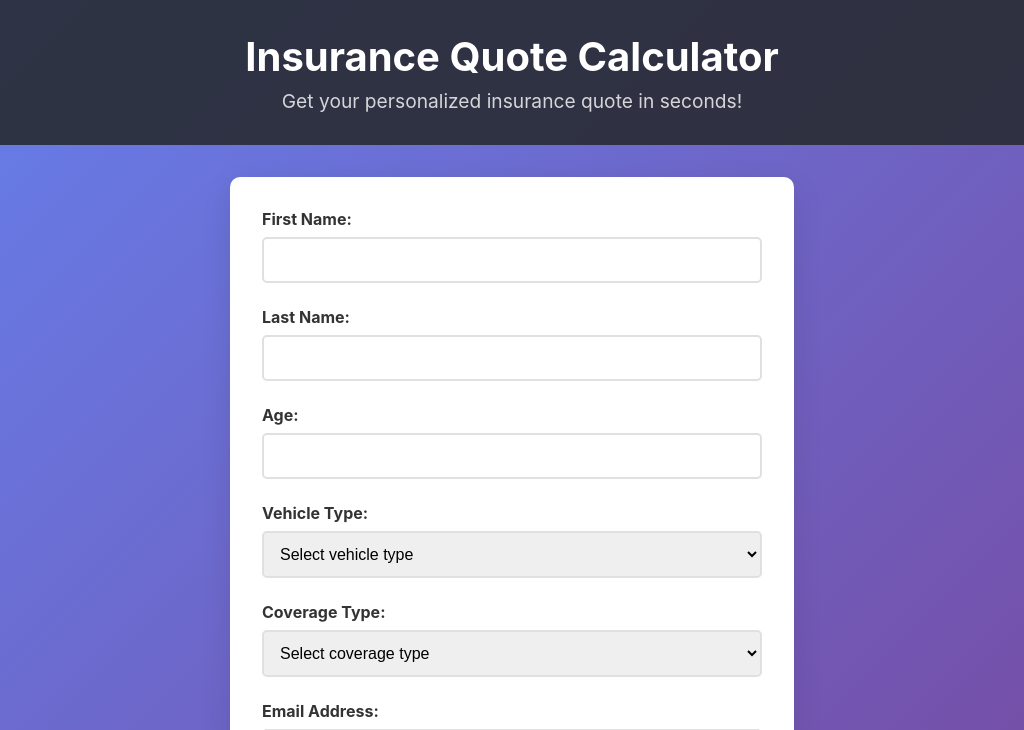
generates quote when form is submitted
Note: Fill out the form
Type "John" into the field labelled "First Name:" at (512, 260), box [262, 237, 762, 283]
Type "Doe" into the field labelled "Last Name:" at (512, 358), box [262, 335, 762, 381]
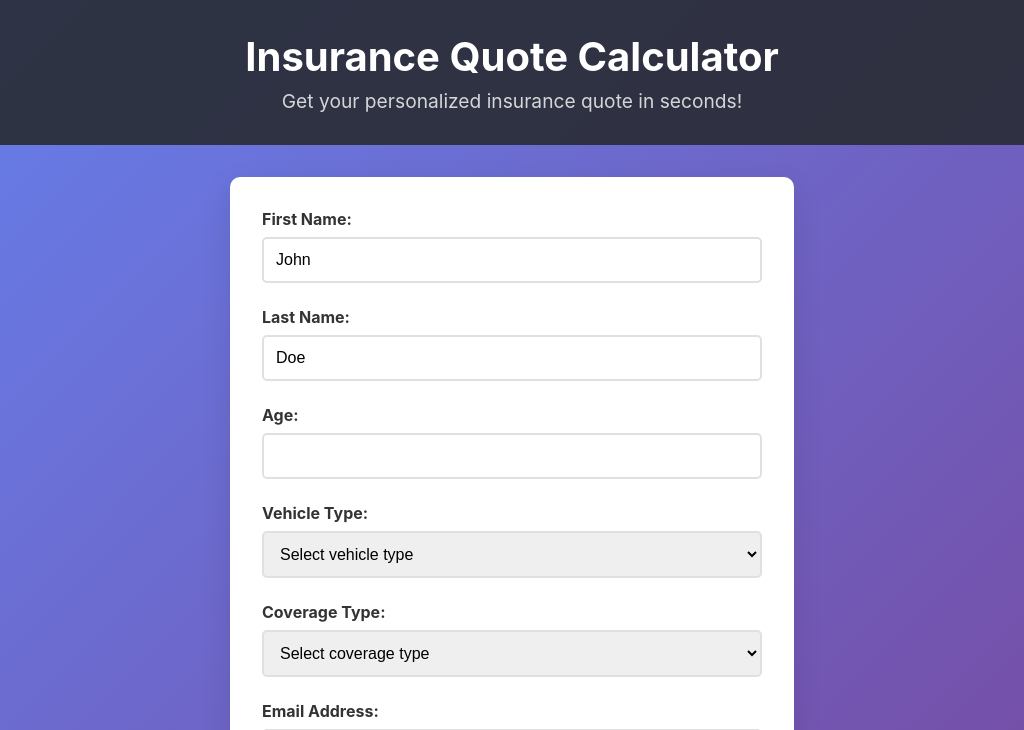
Type "30" into the number field labelled "Age:" at (512, 456), box [262, 433, 762, 479]
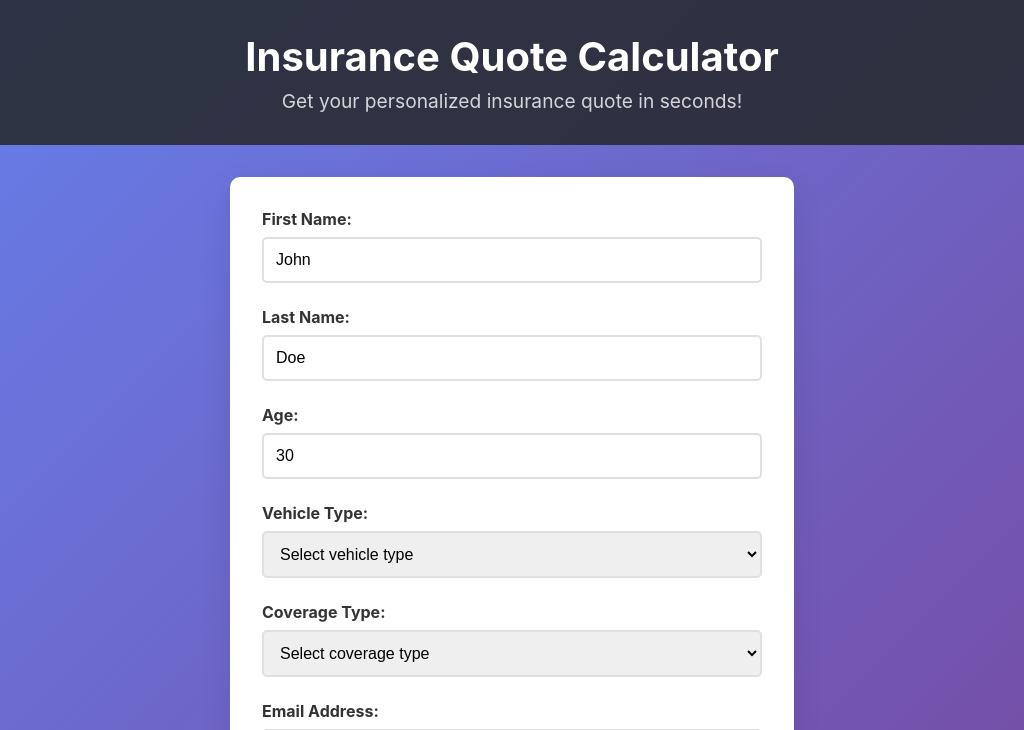
Select "Sedan" in the dropdown labelled "Vehicle Type:" at (512, 554), box [262, 531, 762, 578]
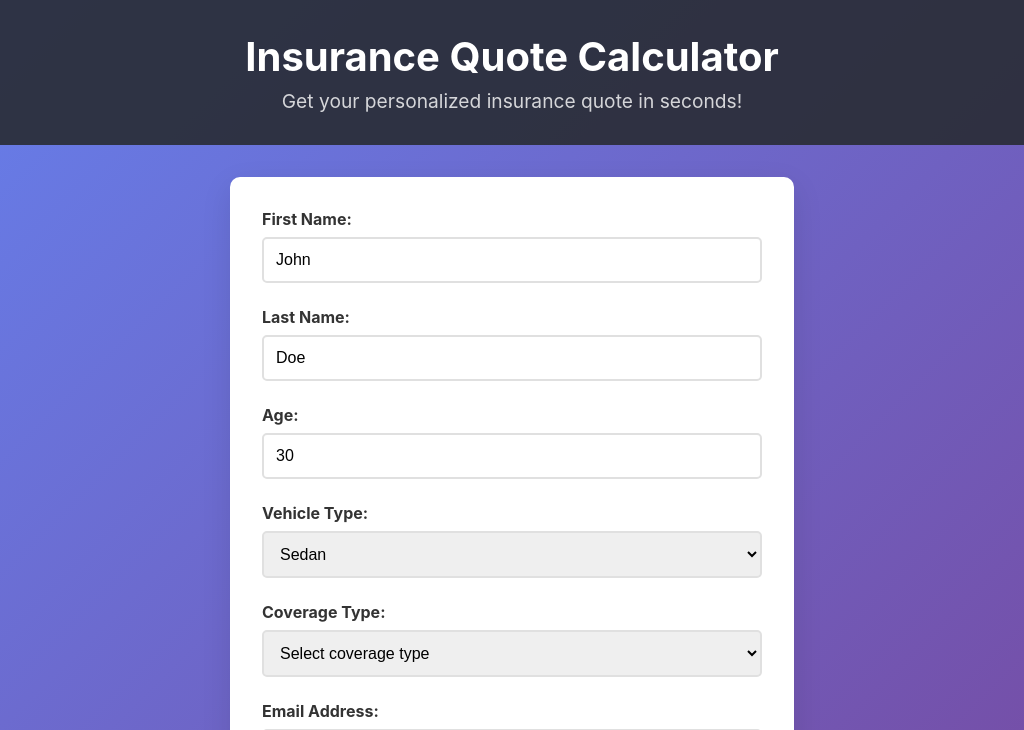
Select "Liability Only" in the dropdown labelled "Coverage Type:" at (512, 654), box [262, 630, 762, 677]
(page scrolled)
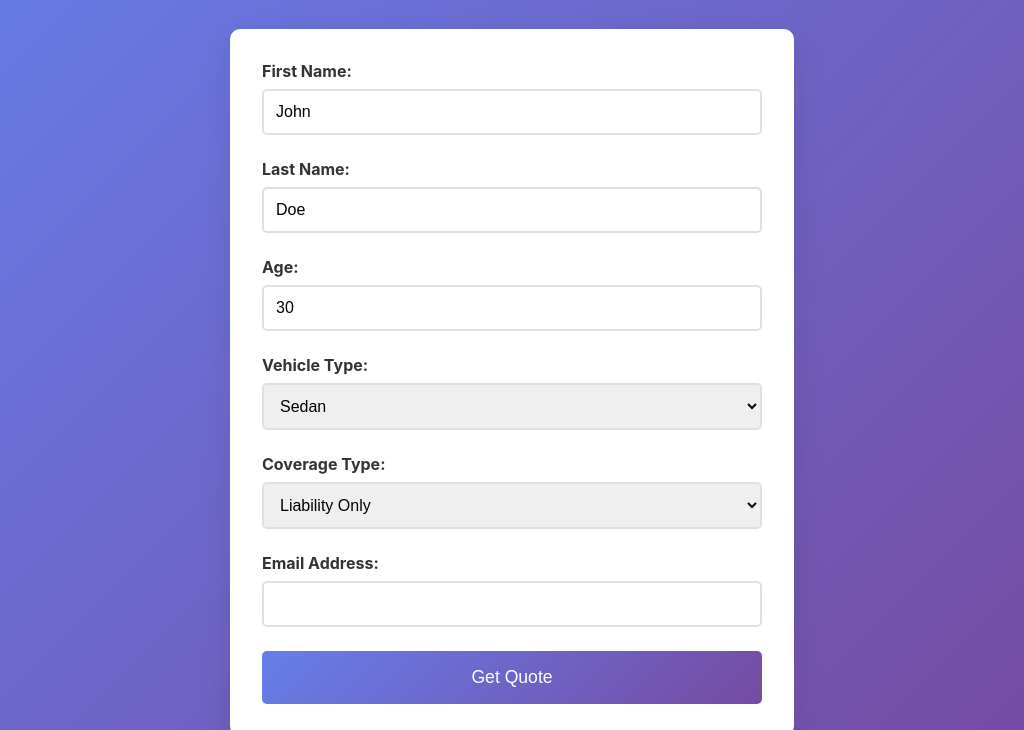
Type "john@example.com" into the field labelled "Email Address:" at (512, 604), box [262, 581, 762, 627]
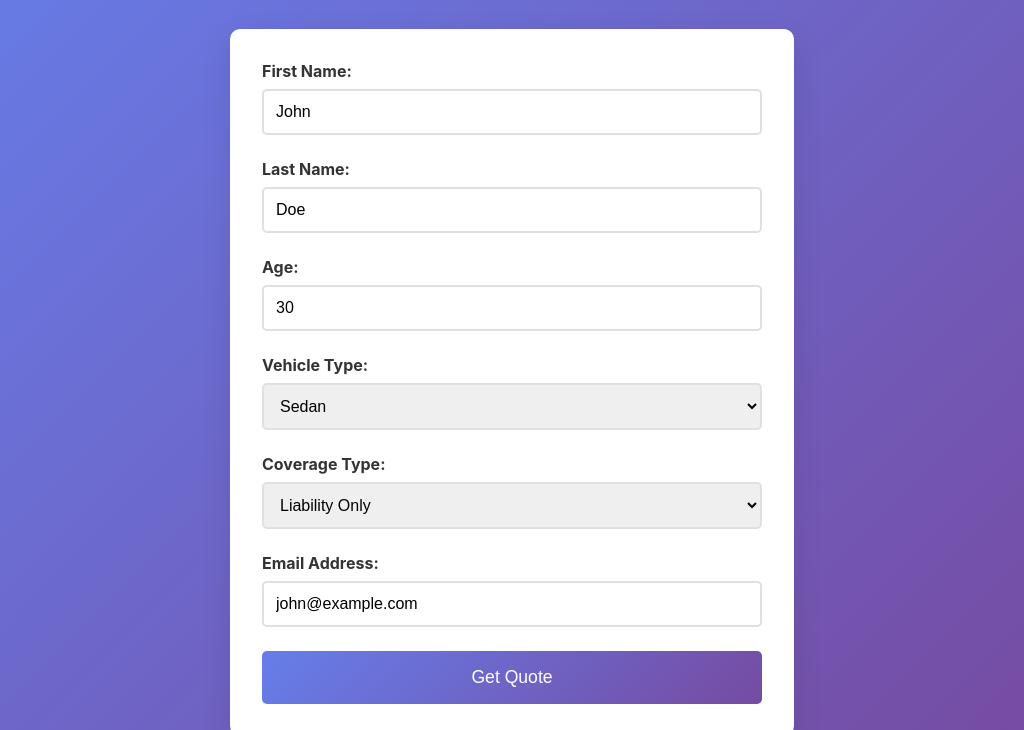
Note: Submit the form
Click the button "Get Quote" at (512, 678), box [262, 651, 762, 704]
(page scrolled)
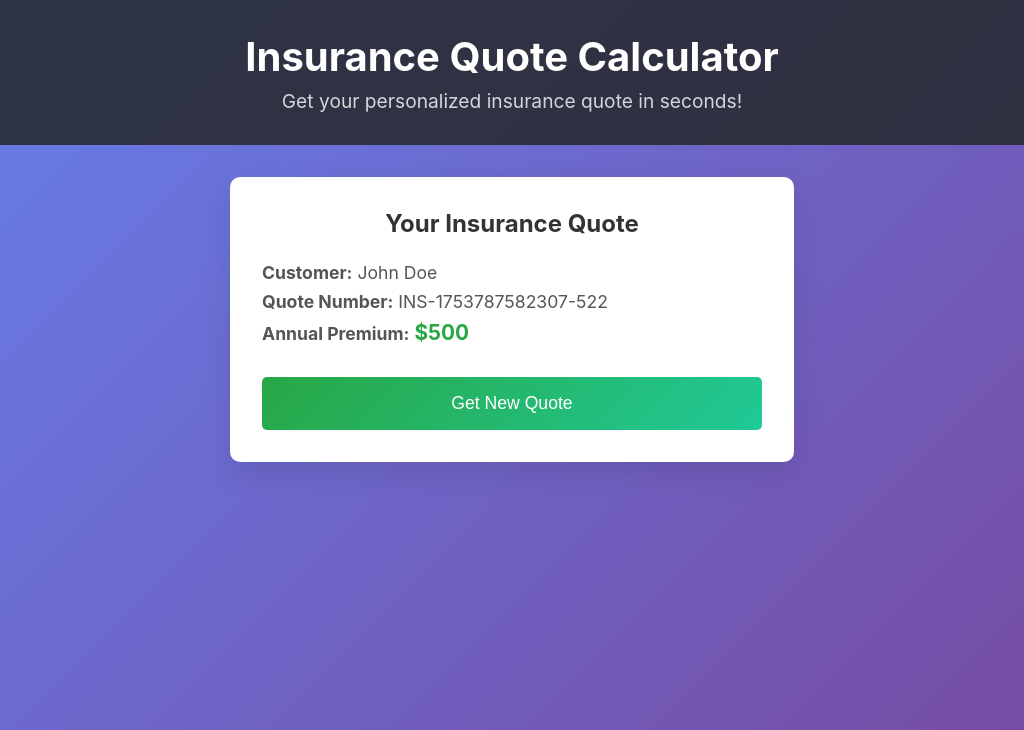
Result: the heading "Your Insurance Quote" is shown at [385, 209, 639, 238]
Result: the text "John Doe" is shown at [357, 262, 437, 283]
Result: the text "Quote Number:" is shown at [262, 291, 393, 312]
